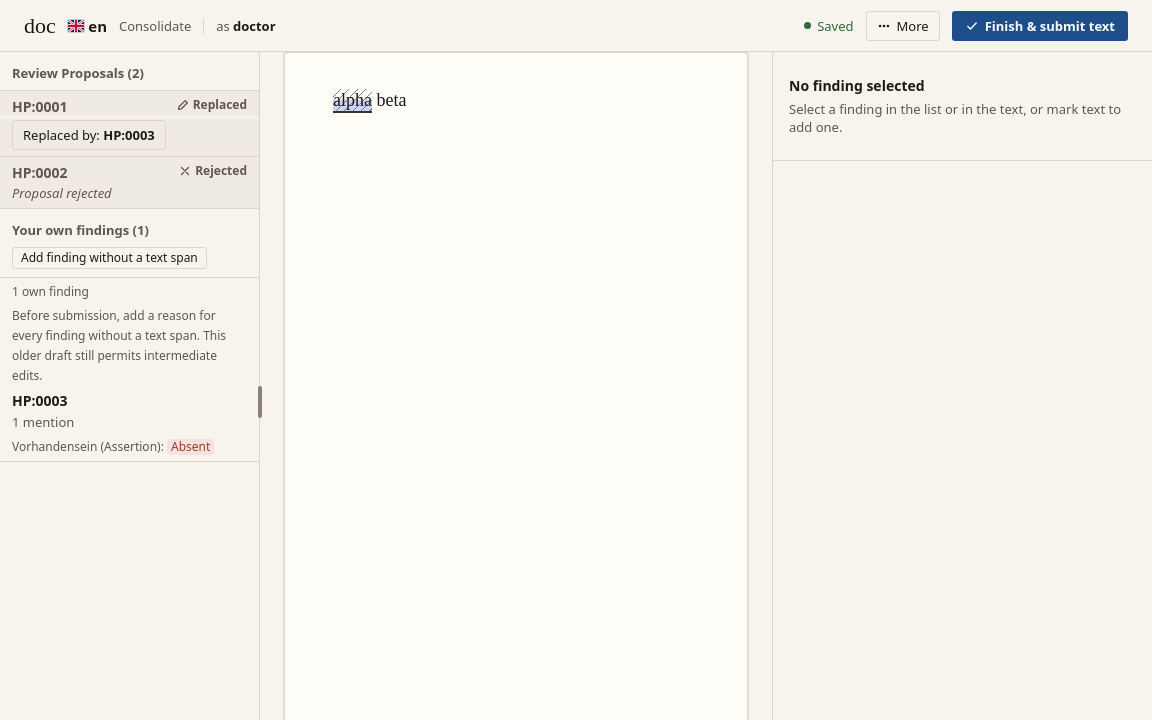
Scenario: Workflow Regressions › hides markings of replaced or rejected review targets in text and grays them out in the sidebar list
expect the text "alpha" is shown: met, box left=333, top=89, right=372, bottom=113
expect the text "Replaced" is shown: met, box left=176, top=97, right=247, bottom=113
Click the text "HP:0001" at (40, 106), box left=12, top=97, right=68, bottom=116
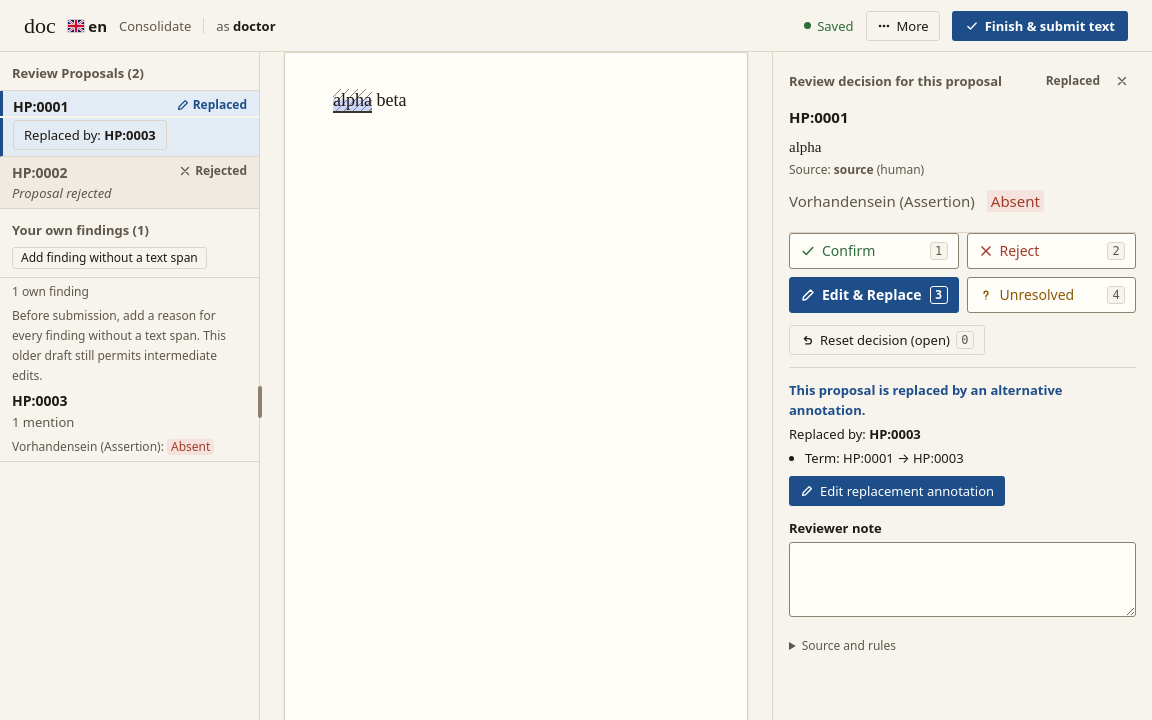
expect the heading "Review decision for this proposal" is shown: met, box left=789, top=72, right=1002, bottom=90
